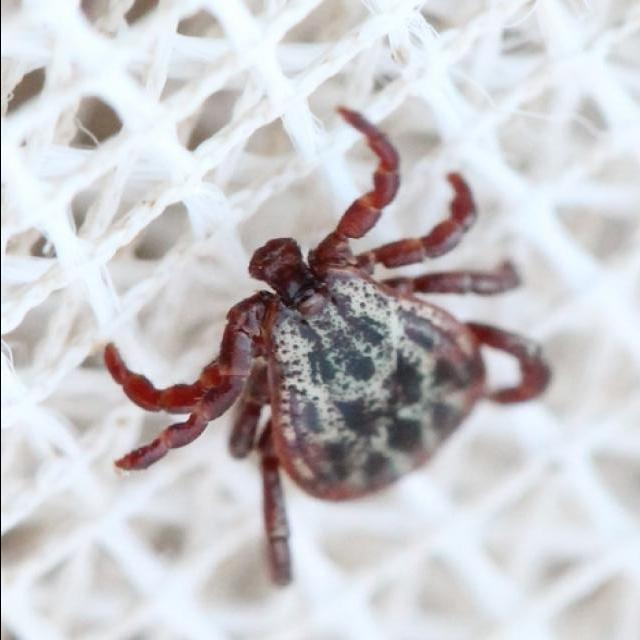Dermacentor Reticulatus-M: (101, 105, 551, 586)
